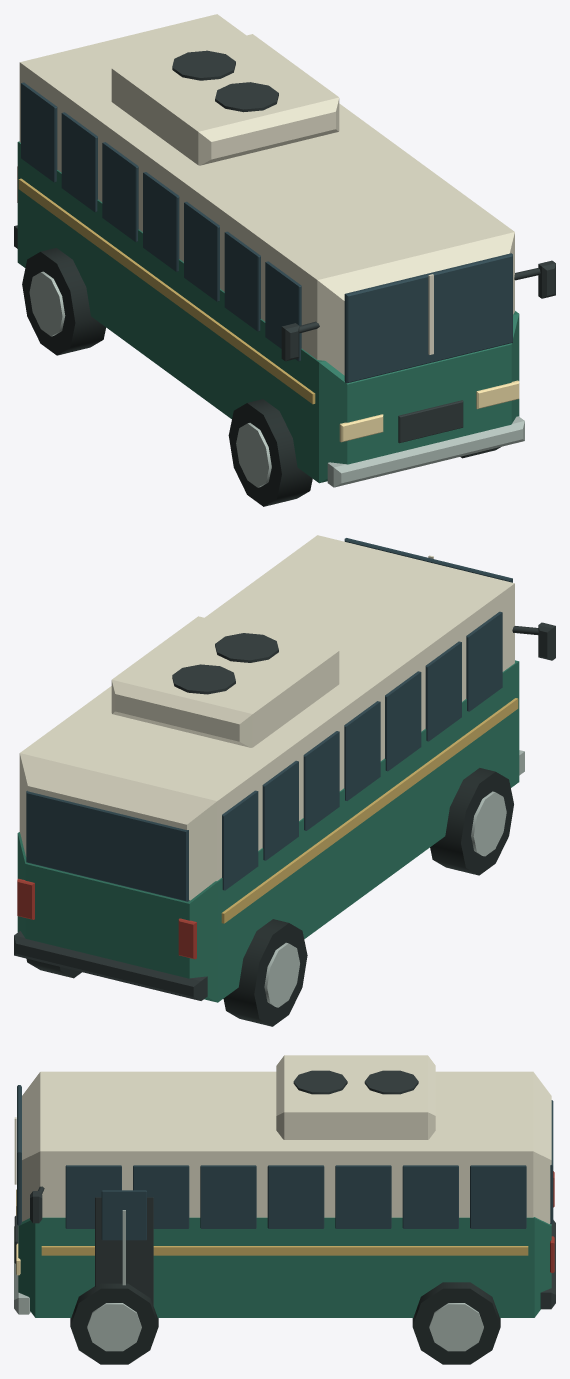
The model's file is bus.glb.
The picture shows the model from 3 angles, top to bottom: view 1: azimuth 30°, elevation 25°; view 2: azimuth 150°, elevation 25°; view 3: azimuth 270°, elevation 25°; orthographic projection. The views are drawn at different scales.
Visible parts, largest first — view 1: upper_body_cream, body_green, passenger_windows_glass, roof_ac_cream, windshield_glass, wheels_rubber, bumpers_chrome, side_stripe_gold, wheels_chrome, ac_fans_dark, grille_dark, headlights_lamp (+1 smaller); view 2: upper_body_cream, body_green, passenger_windows_glass, roof_ac_cream, rear_window_glass, wheels_rubber, bumpers_dark, side_stripe_gold, wheels_chrome, ac_fans_dark, tail_lights_tail, windshield_glass (+1 smaller); view 3: upper_body_cream, body_green, passenger_windows_glass, roof_ac_cream, wheels_rubber, side_stripe_gold, wheels_chrome, passenger_door_dark, door_window_glass, ac_fans_dark, windshield_glass, bumpers_dark (+3 smaller).
Part boxes in pixels (left/top/right/bottom): upper_body_cream: left=19, top=14, right=514, bottom=375; body_green: left=17, top=141, right=519, bottom=483; passenger_windows_glass: left=21, top=82, right=301, bottom=361; roof_ac_cream: left=111, top=34, right=339, bottom=165; windshield_glass: left=344, top=253, right=512, bottom=383; wheels_rubber: left=22, top=248, right=501, bottom=506; bumpers_chrome: left=327, top=416, right=524, bottom=487; side_stripe_gold: left=18, top=178, right=315, bottom=404; wheels_chrome: left=29, top=271, right=271, bottom=487; ac_fans_dark: left=172, top=50, right=278, bottom=112; grille_dark: left=398, top=400, right=463, bottom=443; headlights_lamp: left=339, top=380, right=519, bottom=442; upper_body_cream: left=19, top=535, right=514, bottom=900; body_green: left=17, top=660, right=519, bottom=1002; passenger_windows_glass: left=222, top=611, right=502, bottom=890; roof_ac_cream: left=111, top=616, right=339, bottom=747; rear_window_glass: left=26, top=790, right=189, bottom=901; wheels_rubber: left=26, top=768, right=513, bottom=1026; bumpers_dark: left=14, top=931, right=207, bottom=1000; side_stripe_gold: left=221, top=698, right=518, bottom=923; wheels_chrome: left=264, top=791, right=506, bottom=1007; ac_fans_dark: left=172, top=633, right=278, bottom=694; tail_lights_tail: left=17, top=878, right=196, bottom=959; windshield_glass: left=344, top=538, right=512, bottom=582; upper_body_cream: left=22, top=1071, right=551, bottom=1223; body_green: left=18, top=1217, right=551, bottom=1317; passenger_windows_glass: left=65, top=1165, right=526, bottom=1228; roof_ac_cream: left=276, top=1055, right=435, bottom=1139; wheels_rubber: left=70, top=1282, right=500, bottom=1364; side_stripe_gold: left=41, top=1246, right=528, bottom=1255; wheels_chrome: left=87, top=1303, right=483, bottom=1351; passenger_door_dark: left=95, top=1197, right=153, bottom=1306; door_window_glass: left=101, top=1190, right=146, bottom=1240; ac_fans_dark: left=293, top=1070, right=418, bottom=1094; windshield_glass: left=17, top=1085, right=21, bottom=1225; bumpers_dark: left=540, top=1220, right=555, bottom=1309.
Bounding box in the file's own units: 1.15 × 1.16 × 2.4.
